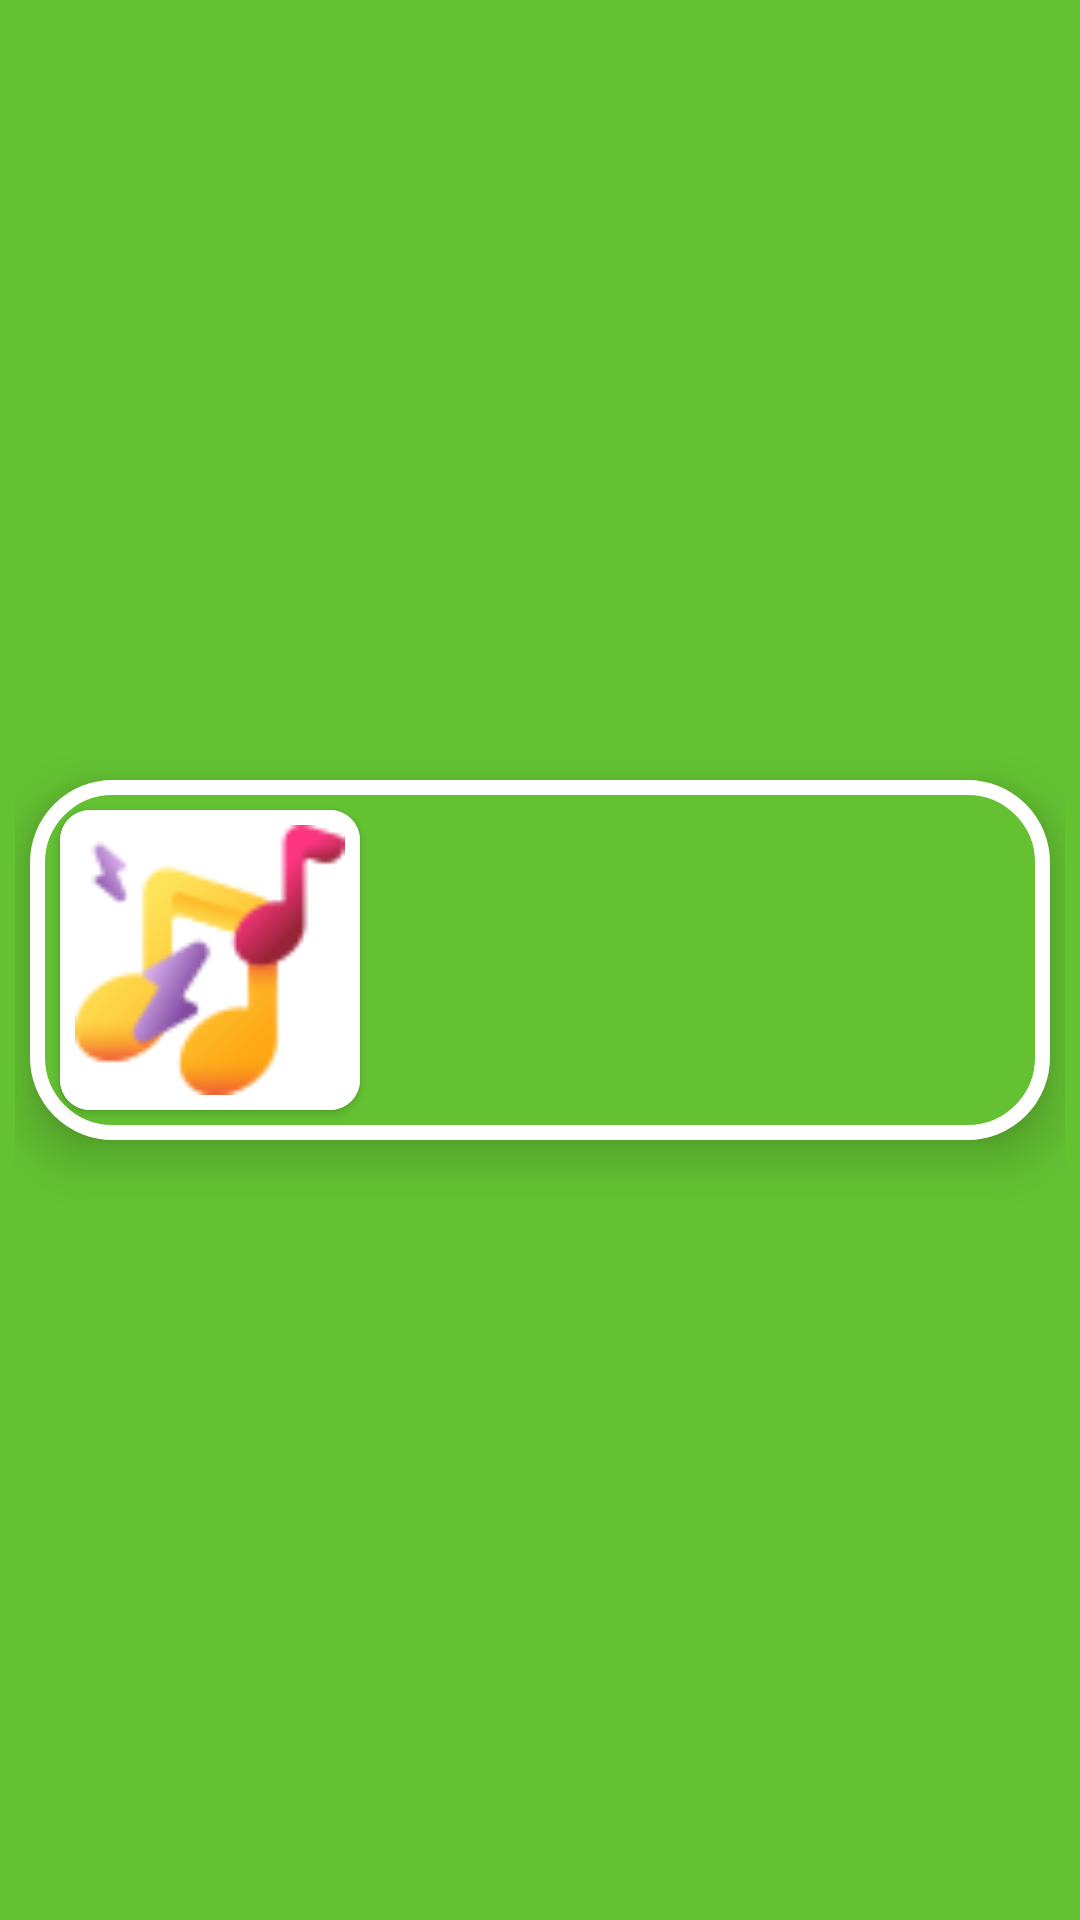

Locate icon controls on the screen. Image size 1080px×1920px, boxes as (x1, y1, x2, y2).
music: (60, 810, 360, 1110)
